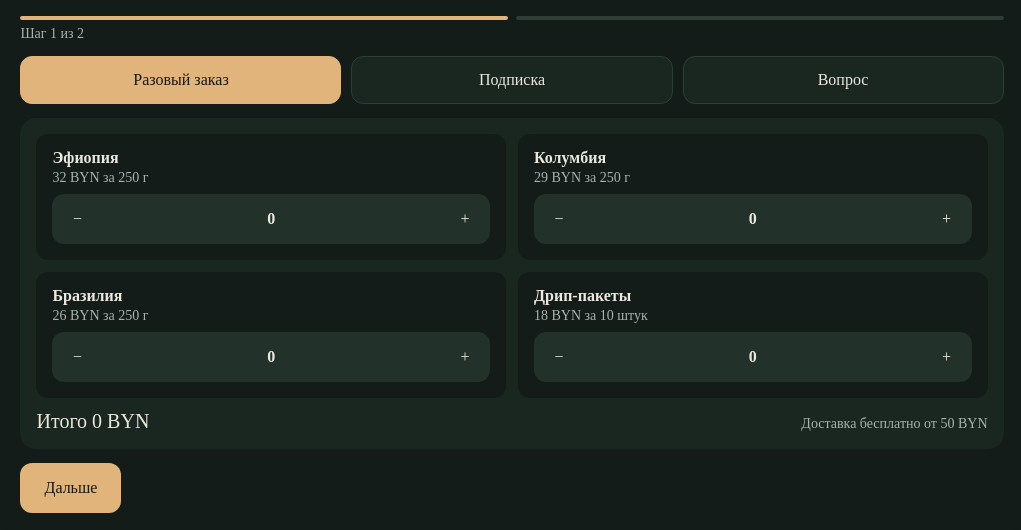
шаг 1 › назад возвращает фокус на выбранный вариант
Click the button named "Добавить Колумбия Уила" at (946, 220), box [924,198,968,242]
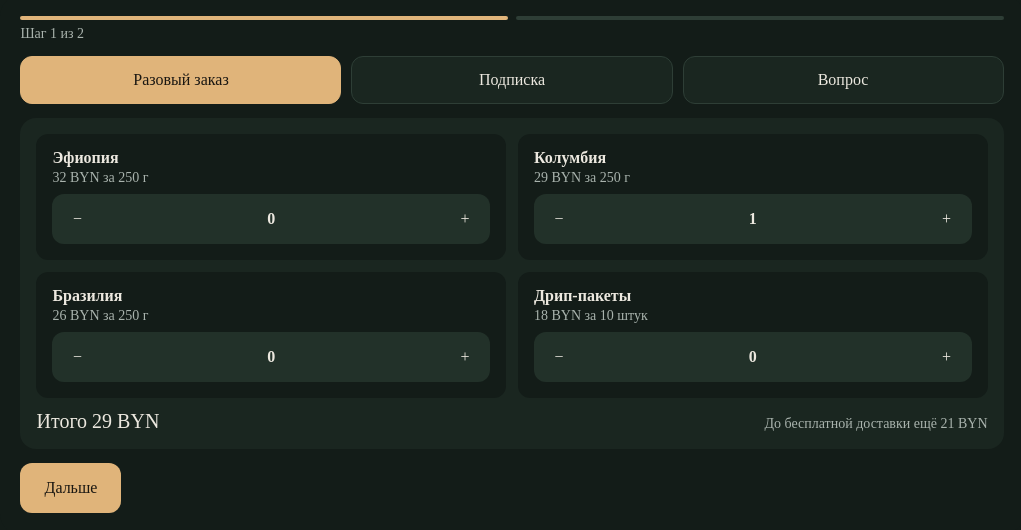
Click the button "Дальше" at (71, 488), box [20,464,121,514]
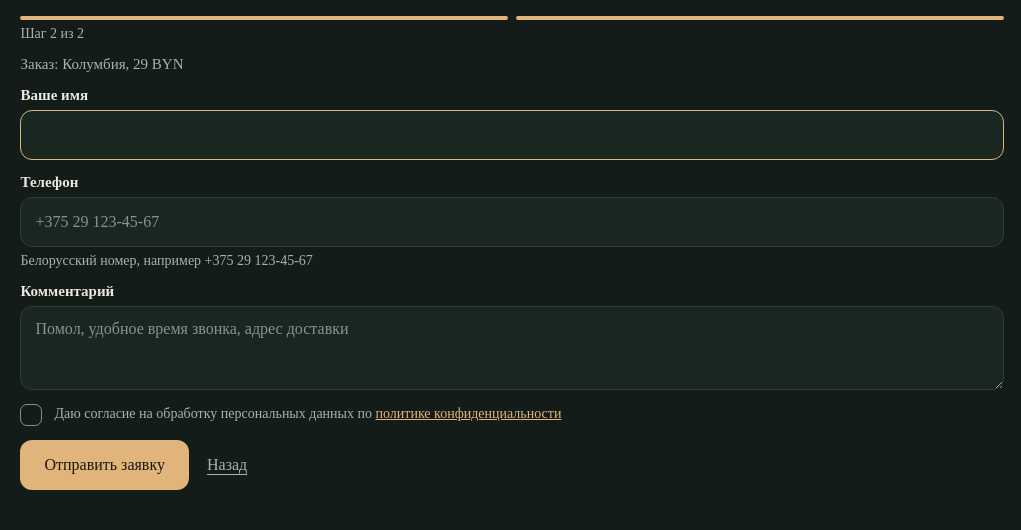
Click the button "Назад" at (227, 466), box [199,440,255,490]
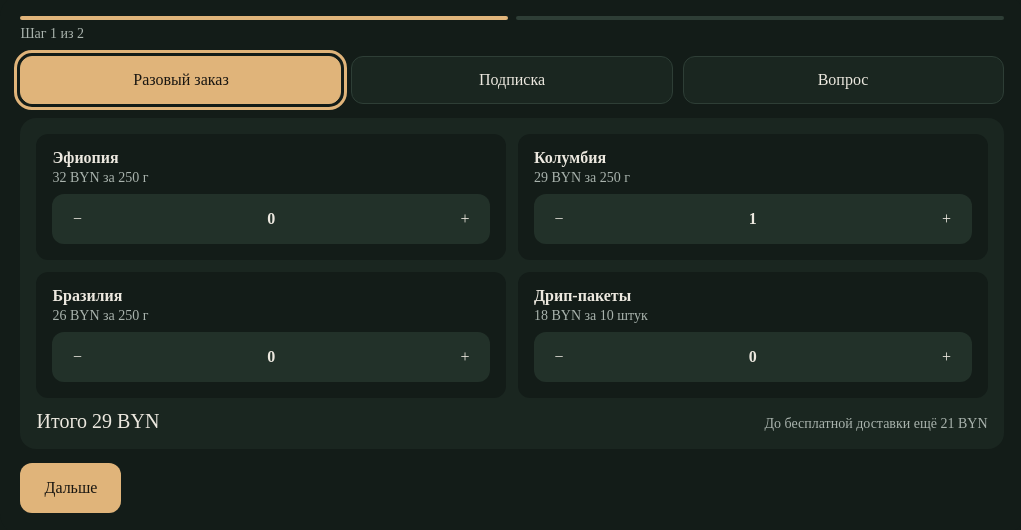
Expected: the text "Шаг 1 из 2" is shown, [20,26,84,42]
